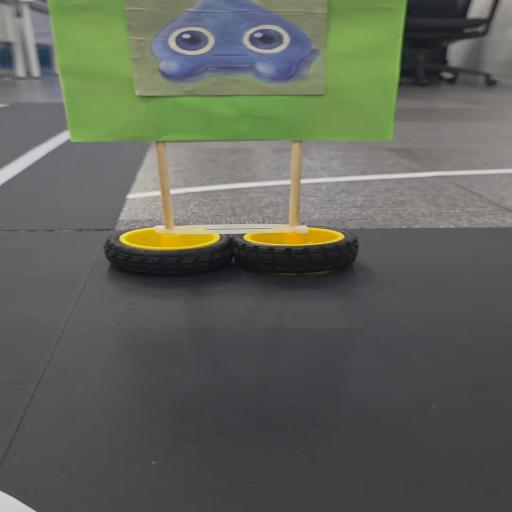Sign_B: (44, 0, 404, 284)
